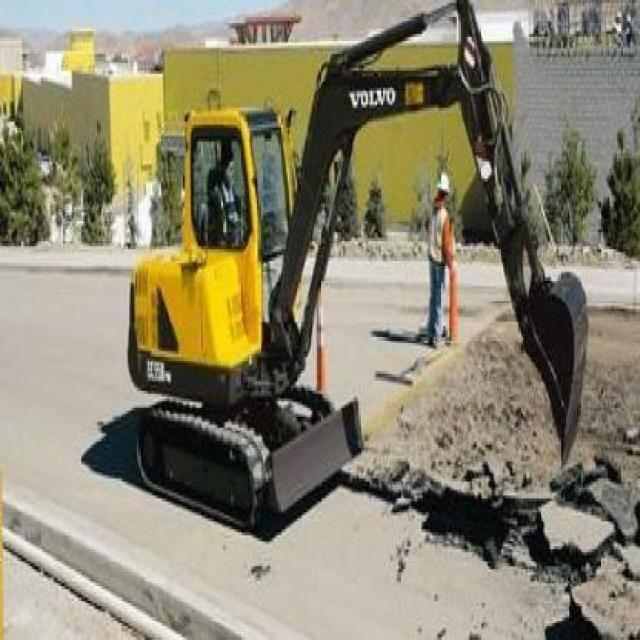Excavator: (124, 0, 587, 532)
